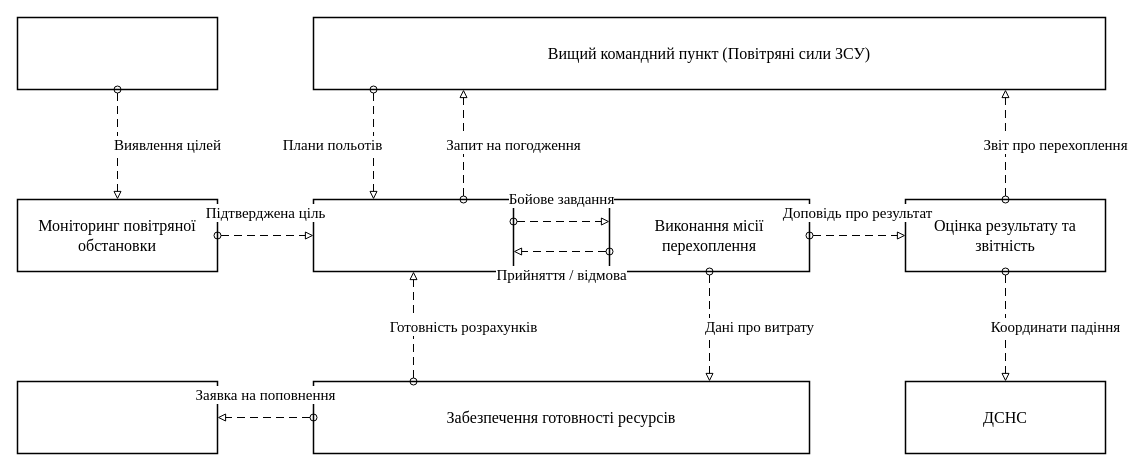
The diagram is 1145 pixels wide and 472 high, and some of its shapes have lost their labels. The shapes that lost their labels are listed below. From the top down, each one's centre as x and y in pixels, then its label:
At (x=117, y=53): "Сенсорна мережа".
At (x=413, y=235): "Призначення цілі та санкціонування пуску".
At (x=117, y=417): "Постачальник".
